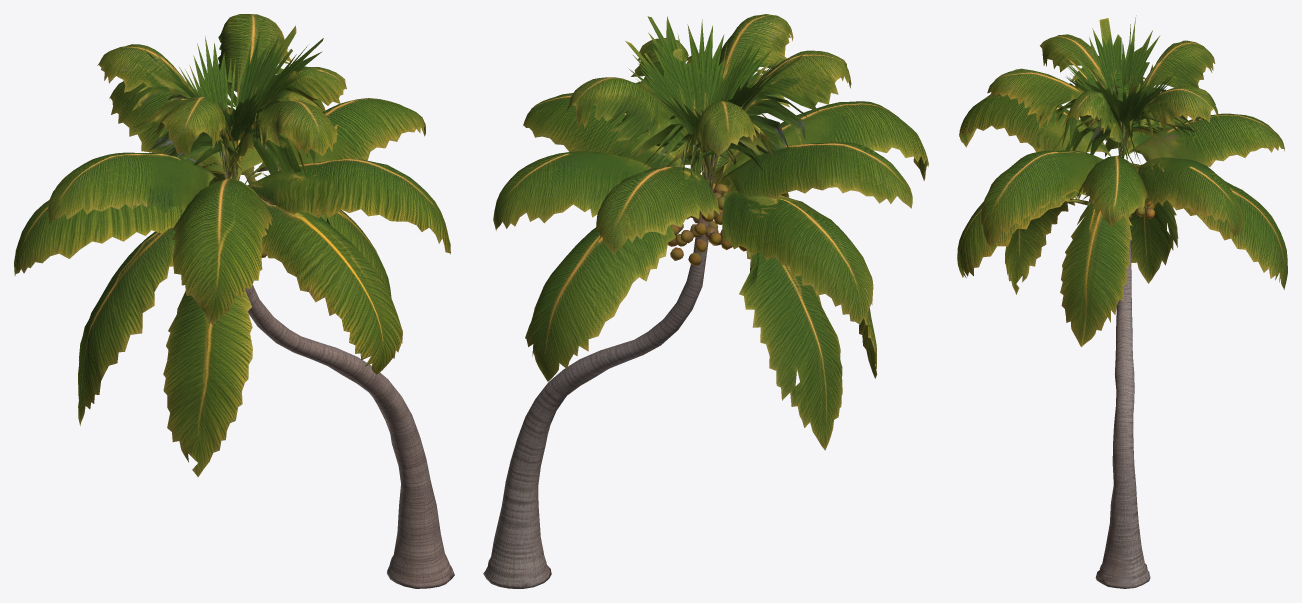
The model's file is palm_curved.glb.
The picture shows the model from 3 angles, left to right: view 1: azimuth 30°, elevation 25°; view 2: azimuth 150°, elevation 25°; view 3: azimuth 270°, elevation 25°; orthographic projection. The views are drawn at different scales.
Size of the model in its own units: 0.7017 by 0.9521 by 0.6196.
1 material, 1 textured.
